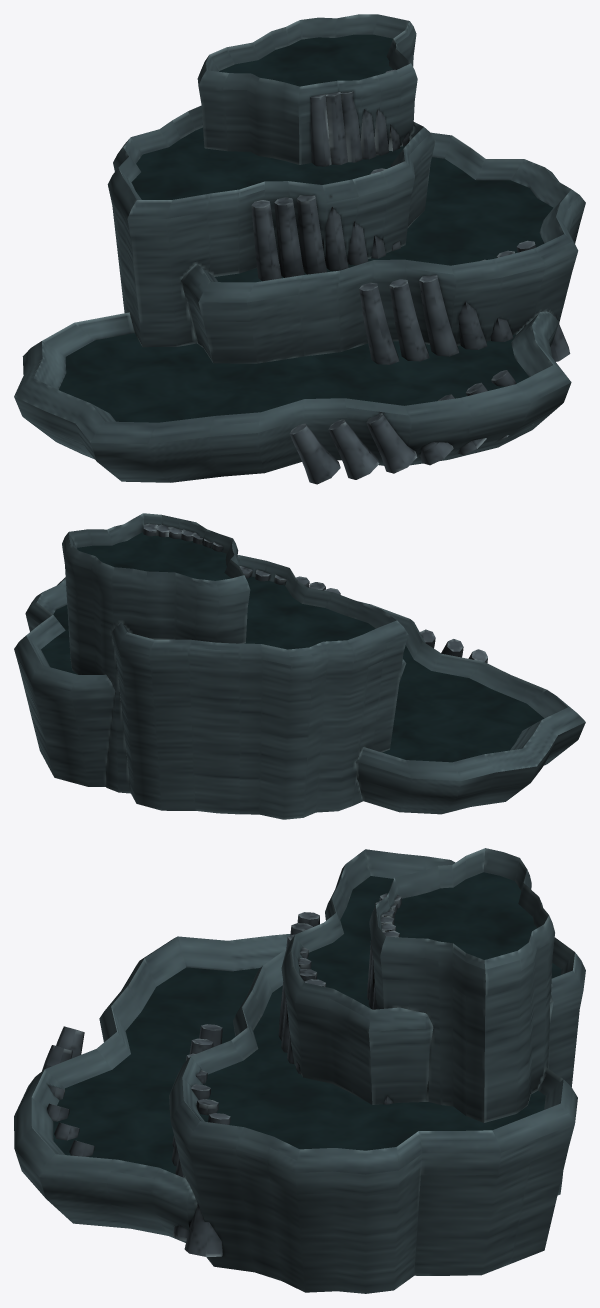
The model's file is underworld-flora-blackwater-rimstone-mound.glb.
3 renders of one model, top to bottom at view 1: azimuth 30°, elevation 25°; view 2: azimuth 150°, elevation 25°; view 3: azimuth 270°, elevation 25°, orthographic. The views are drawn at different scales.
Parts seen in each view (by area): view 1: scalloped-banks, still-pools, spill-curtain; view 2: scalloped-banks, still-pools, spill-curtain; view 3: scalloped-banks, still-pools, spill-curtain.
Boxes of the visible parts, bbox=[...] form: scalloped-banks: bbox=[14, 14, 585, 482]; still-pools: bbox=[59, 34, 553, 422]; spill-curtain: bbox=[251, 69, 570, 484]; scalloped-banks: bbox=[14, 513, 585, 819]; still-pools: bbox=[41, 532, 544, 762]; spill-curtain: bbox=[143, 523, 487, 662]; scalloped-banks: bbox=[14, 848, 585, 1293]; still-pools: bbox=[53, 872, 561, 1173]; spill-curtain: bbox=[42, 893, 401, 1256].
Size of the model in its own units: 4.92 by 2.19 by 3.83.
Materials: 3 (3 with a texture image).
